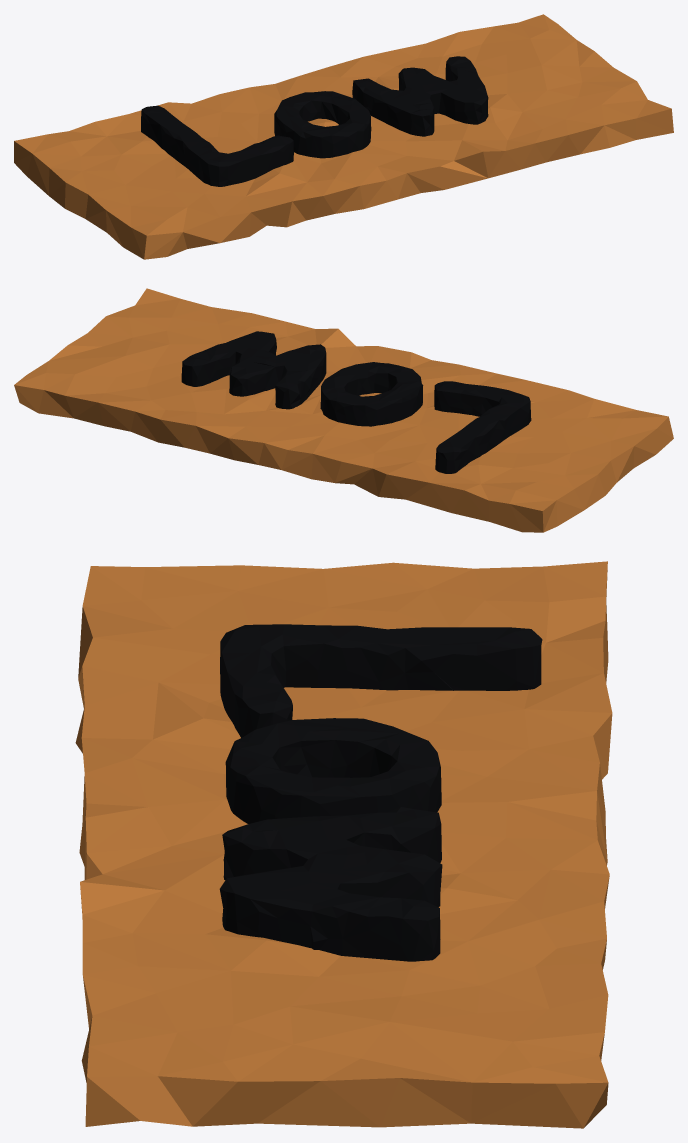
The picture shows the model from 3 angles, top to bottom: view 1: azimuth 30°, elevation 25°; view 2: azimuth 150°, elevation 25°; view 3: azimuth 270°, elevation 25°; orthographic projection. The views are drawn at different scales.
Visible parts, largest first — view 1: Куб.010; view 2: Куб.010; view 3: Куб.010.
Boxes of the visible parts, x1,y1,x2,y2 form: Куб.010: (14,14,673,259); Куб.010: (14,288,673,532); Куб.010: (75,561,612,1128).
Size of the model in its own units: 214 by 18.55 by 92.87.
